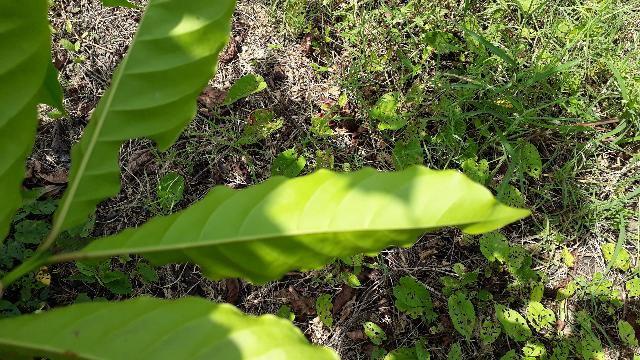healthy: (79, 165, 529, 285)
